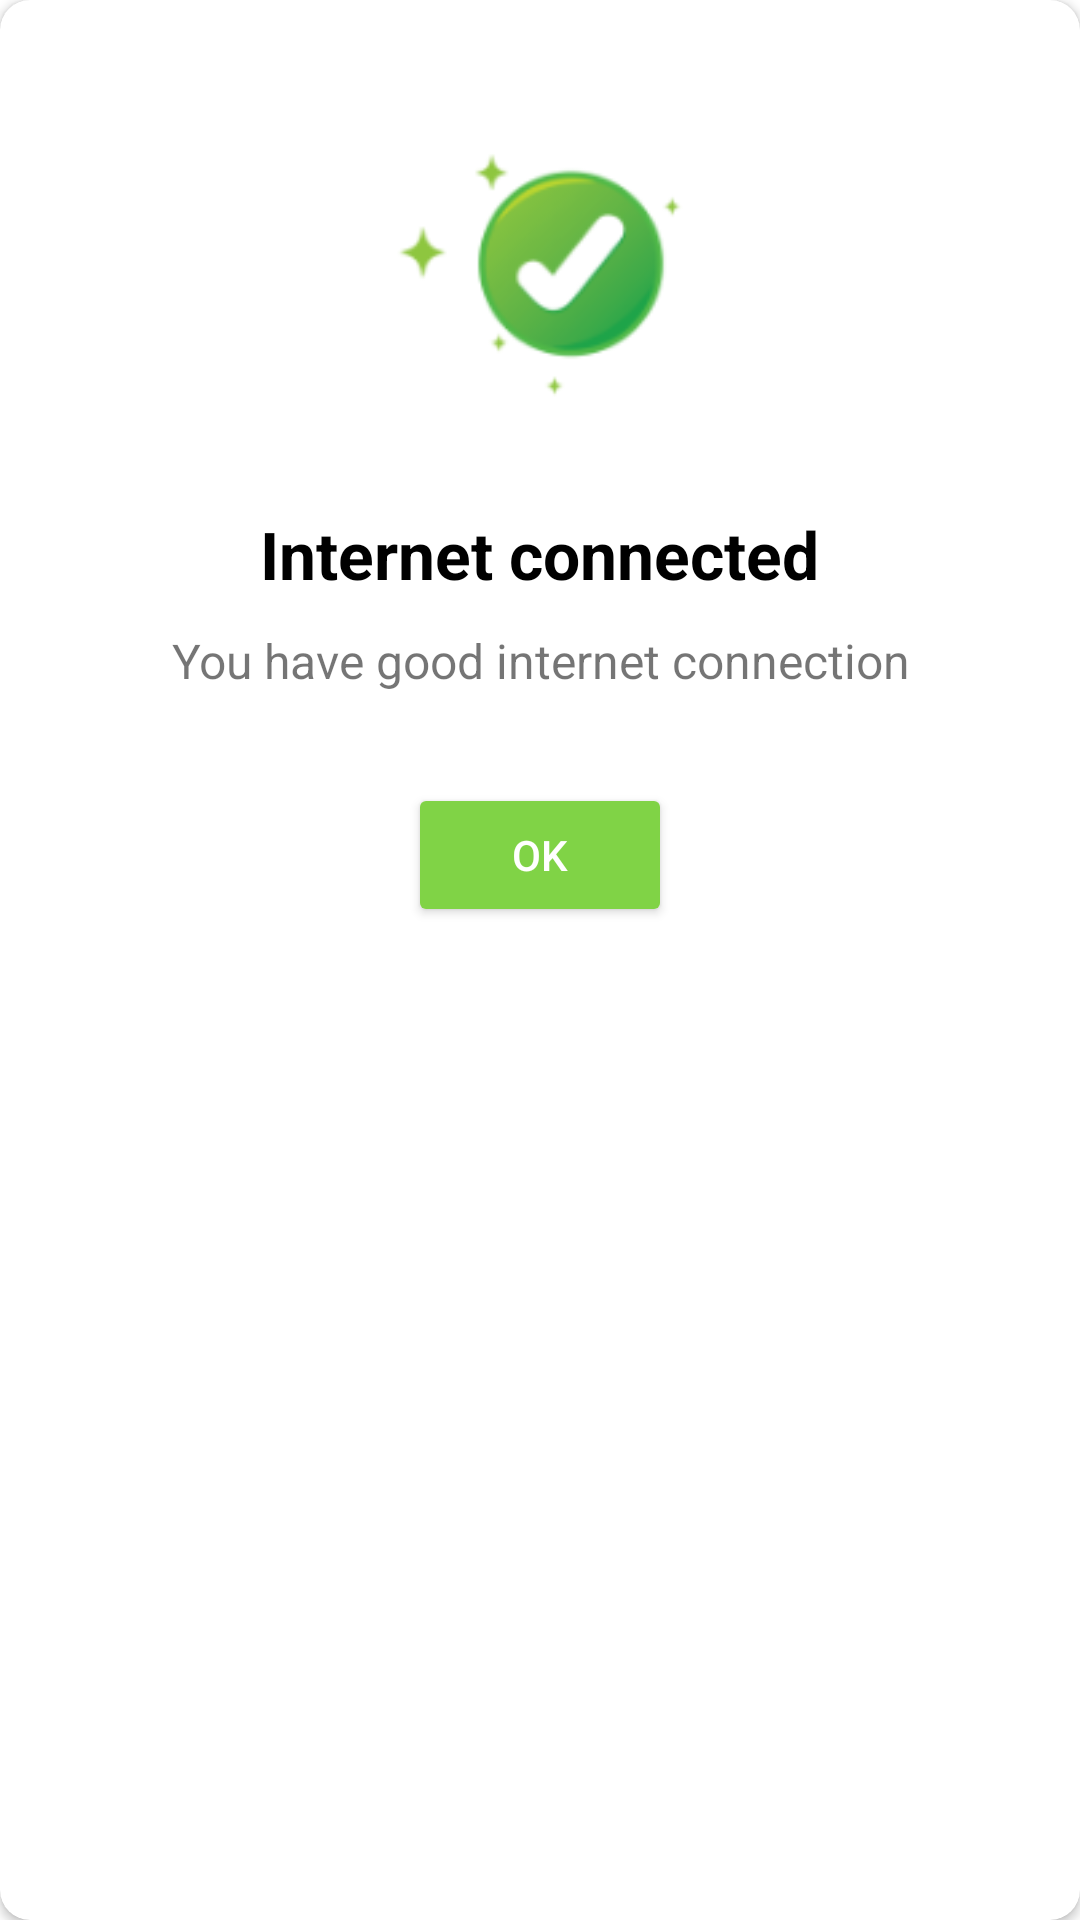

Named icons in this screenshot (1080x1920) and their centers, (x,y):
success: (540,274)
